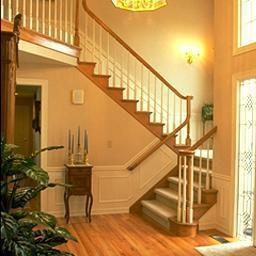Escaleras: (74, 11, 200, 123), (126, 123, 221, 225)
Puerta: (230, 70, 255, 236)
